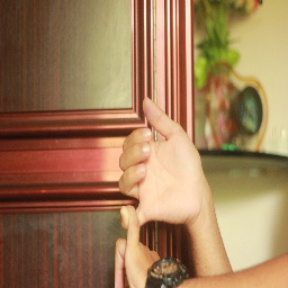S: (92, 95, 208, 288)
